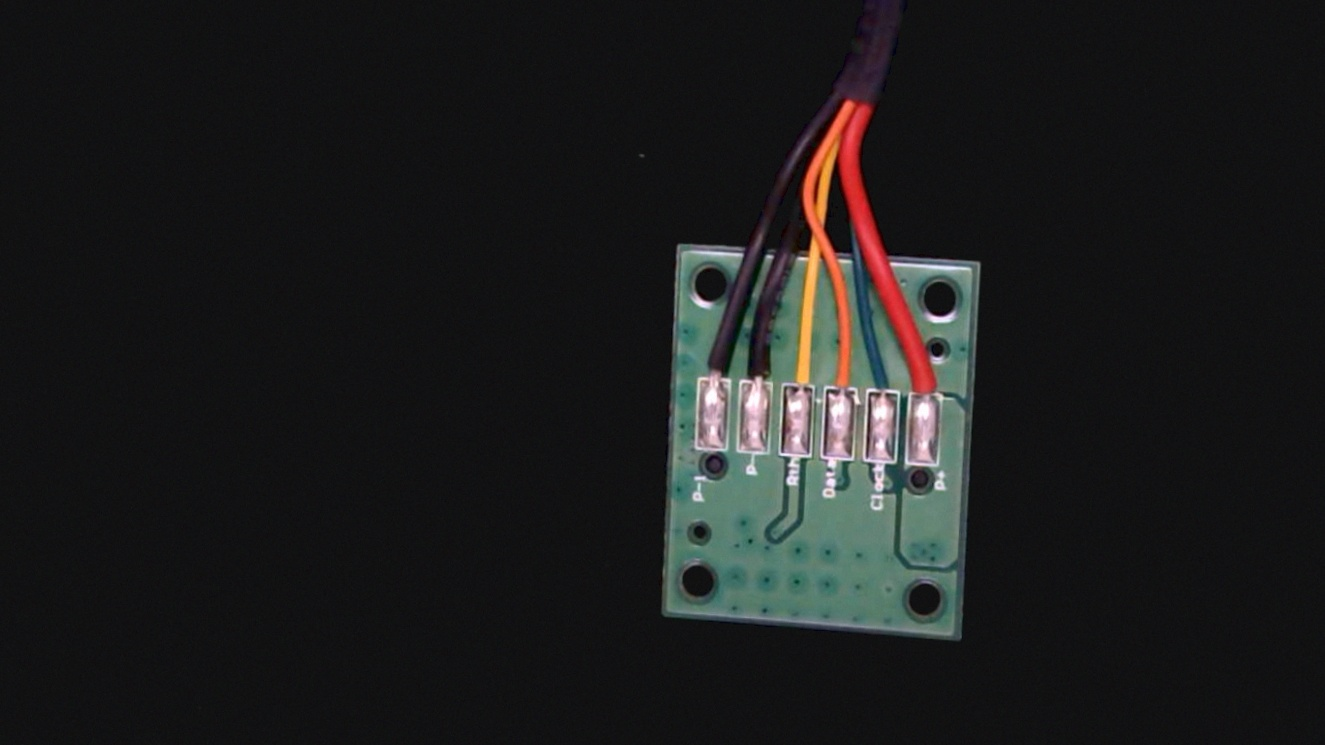Black: (738, 317, 779, 396)
Black1: (695, 321, 734, 395)
Green: (863, 341, 903, 412)
Orange: (823, 325, 863, 406)
Red: (905, 343, 948, 414)
Yellow: (778, 322, 824, 402)
